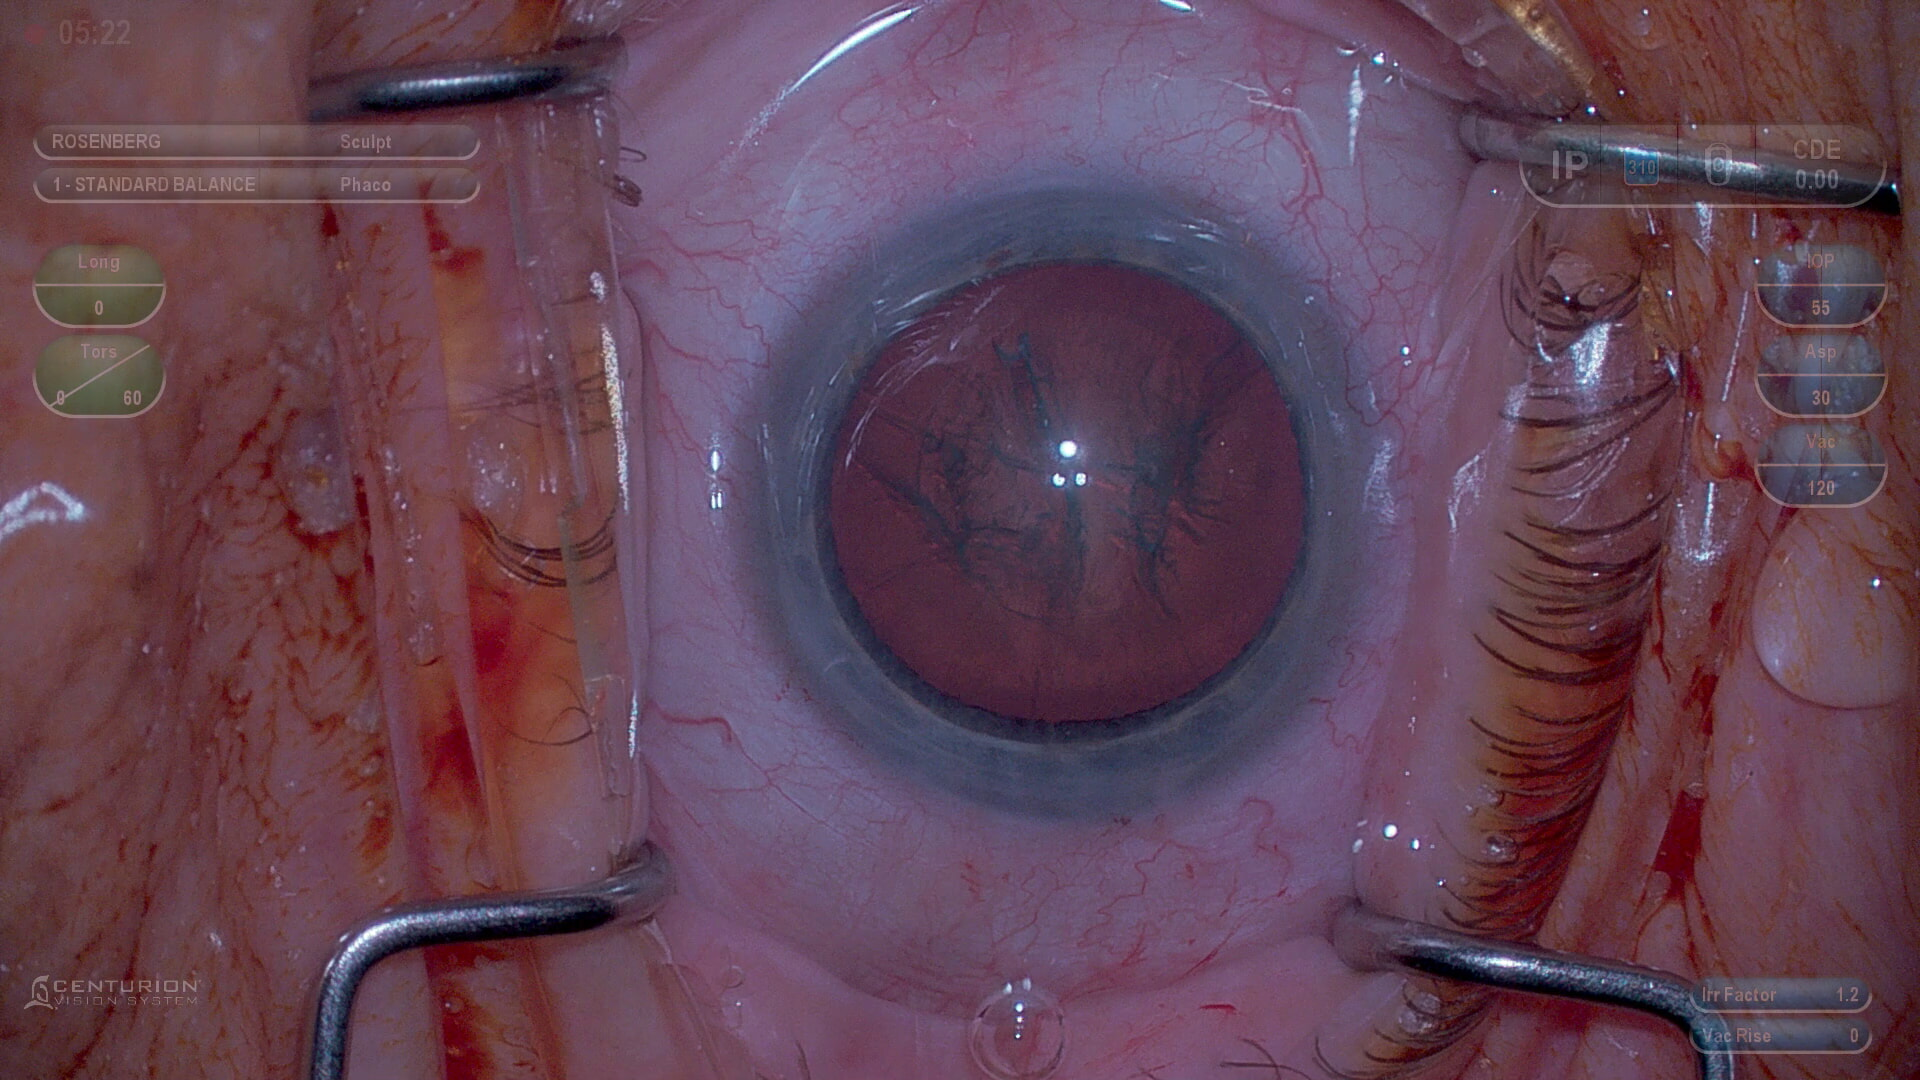iris: (732, 190, 1371, 816)
pupil: (815, 258, 1322, 748)
